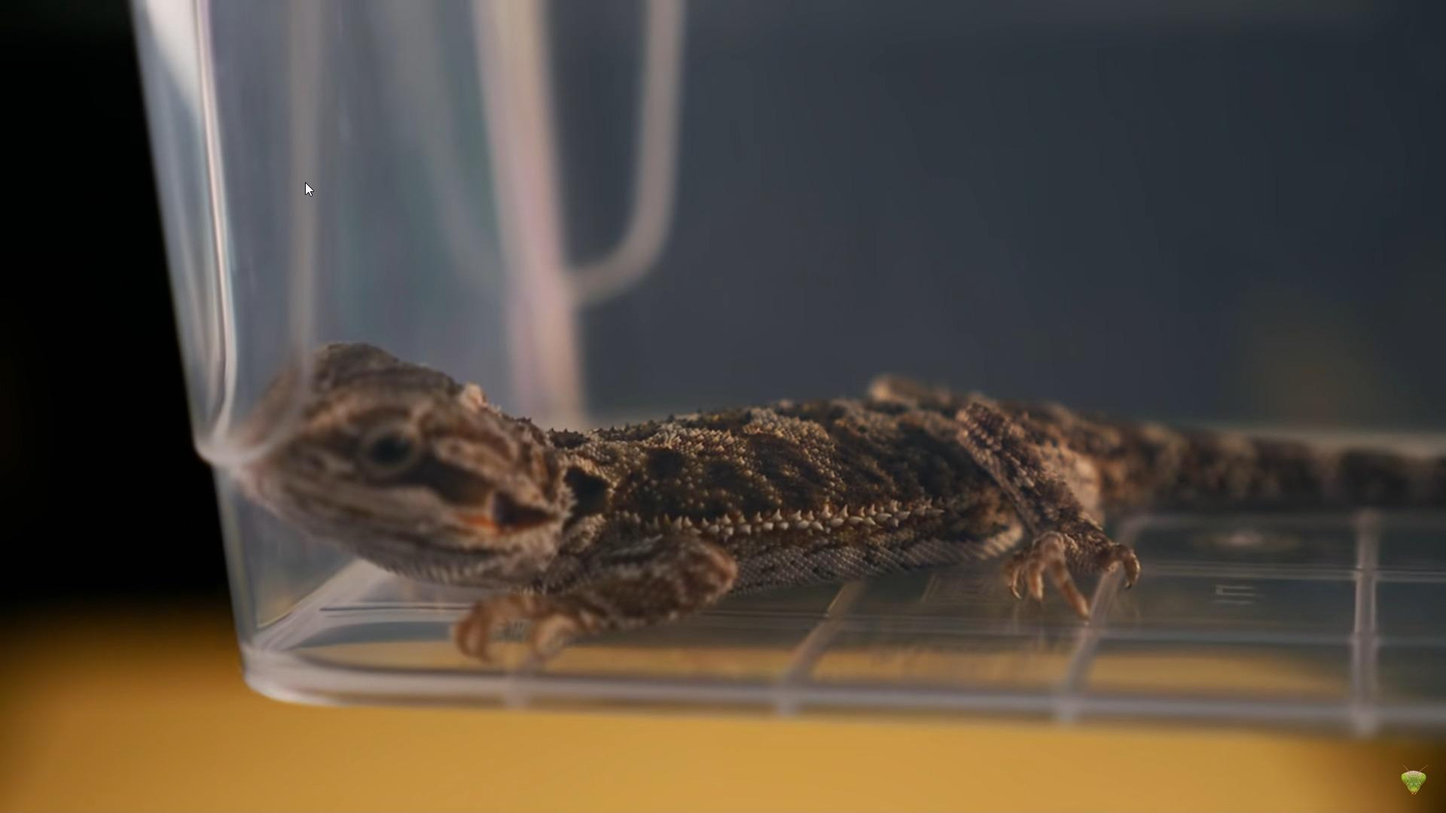lizard: (222, 331, 1446, 663)
